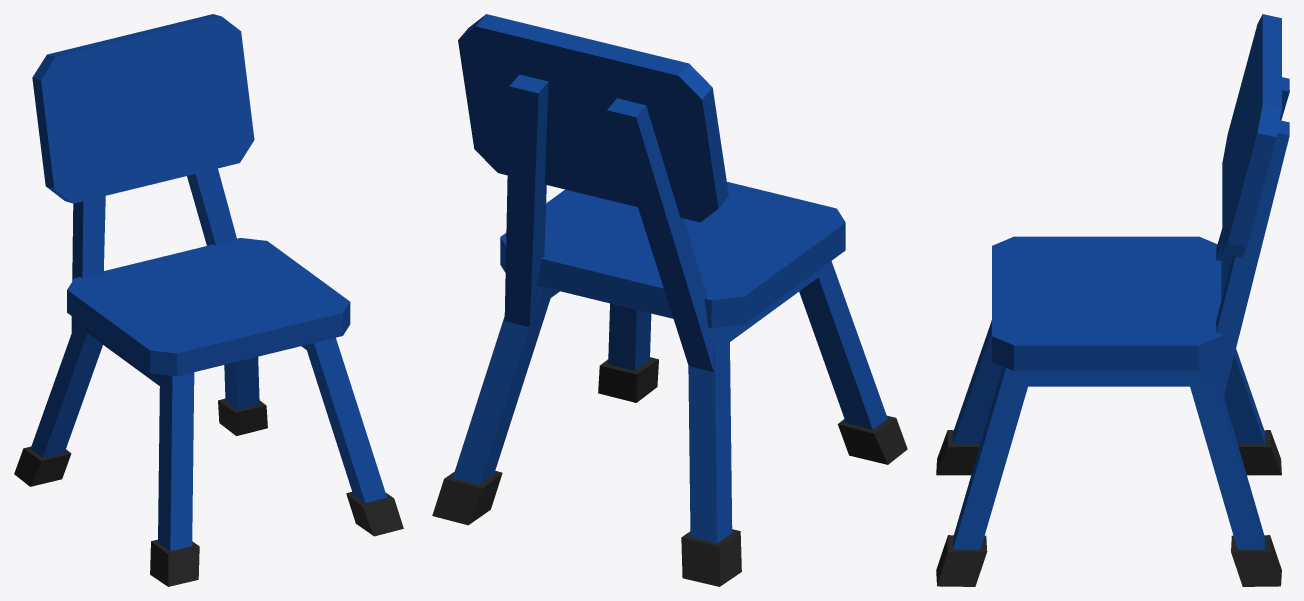
File: ghe6.fbx
The picture shows the model from 3 angles, left to right: view 1: azimuth 30°, elevation 25°; view 2: azimuth 150°, elevation 25°; view 3: azimuth 270°, elevation 25°; orthographic projection. The views are drawn at different scales.
Visible parts, largest first — view 1: ghe6; view 2: ghe6; view 3: ghe6.
Part boxes in pixels (x1=…): ghe6: x1=14, y1=14, x2=403, y2=586; ghe6: x1=432, y1=14, x2=907, y2=586; ghe6: x1=936, y1=14, x2=1289, y2=586.
Bounding box in the file's own units: 95.01 × 159 × 110.
